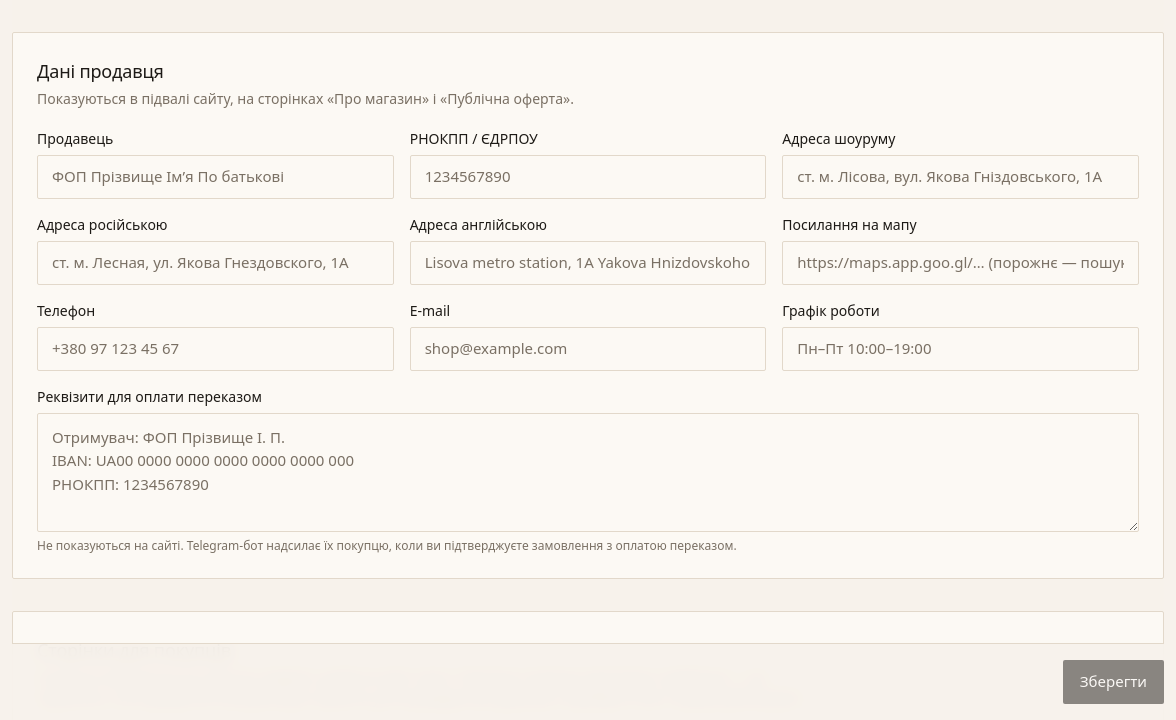
AdminStoreInfoEditor › only enables saving once something changed
Check: the button "Зберегти" is disabled, box [1063,660,1164,704]
Type "ФОП Коваль" into the field labelled "Продавець" at [215, 177], box [37,155,394,199]
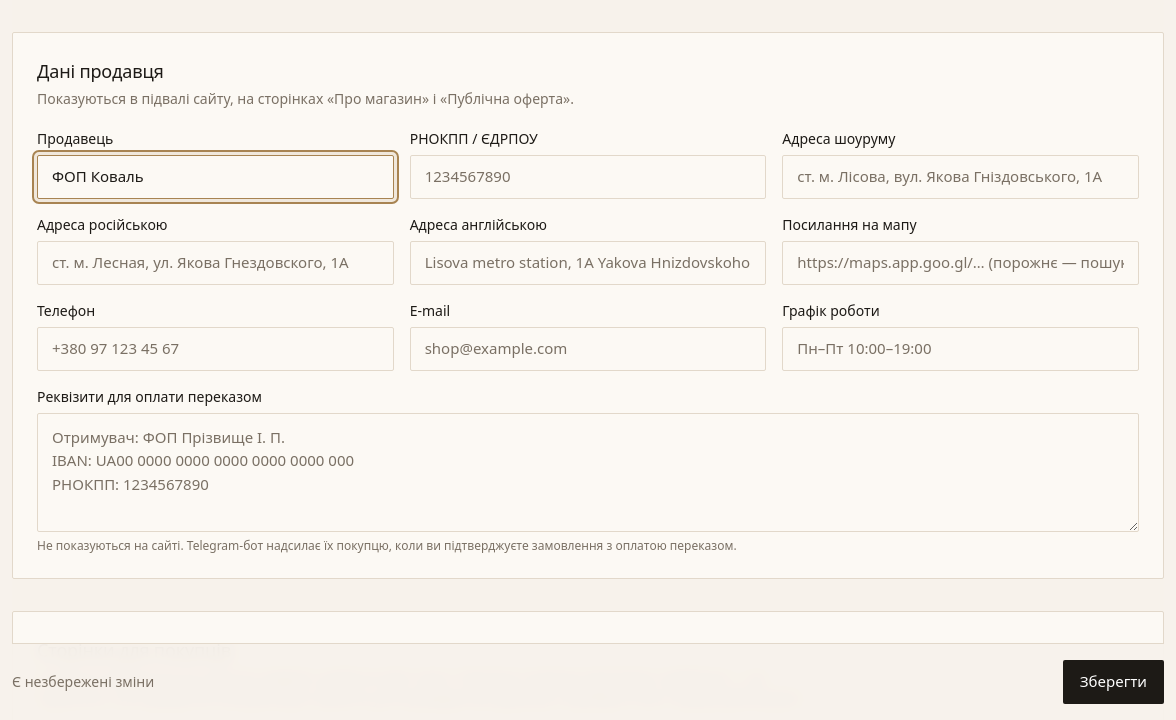
Check: the button "Зберегти" is enabled, box [1063,660,1164,704]
Check: the text "Є незбережені зміни" is shown, box [12,672,154,692]
